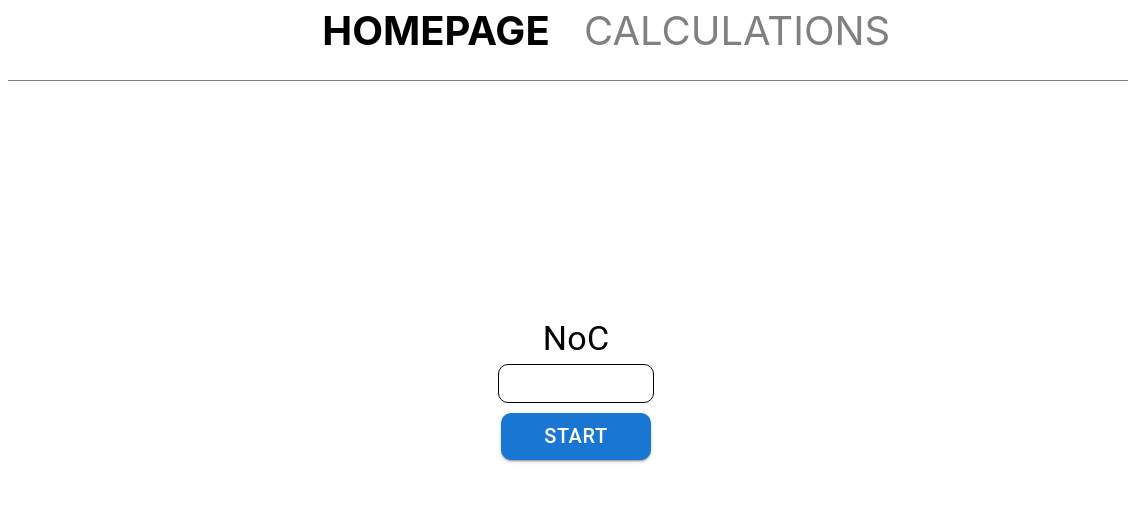
calculations spec › render Calculation UI
This screenshot has width=1145, height=505.
Type "20" into the field at (576, 385), box [498,365,654,404]
Then press Enter
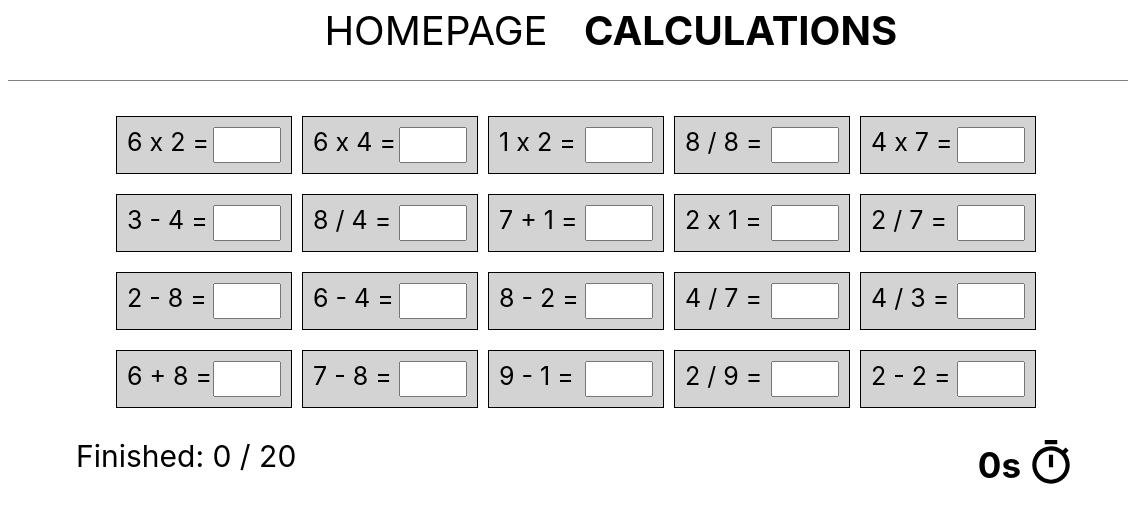
Check: the element with class "Timer" is shown, box [978,438,1076,488]
Check: the text "Finished: 0 / 20" is shown, box [76,438,296,474]
